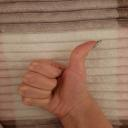ThumbsUp: (17, 38, 106, 118)
